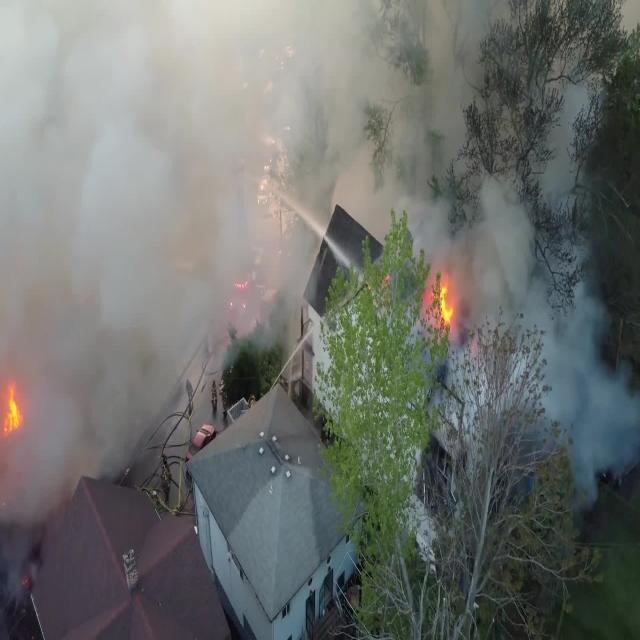Fire: (418, 263, 467, 345), (1, 366, 25, 460)
Smoke: (108, 64, 284, 341), (41, 46, 187, 340)
